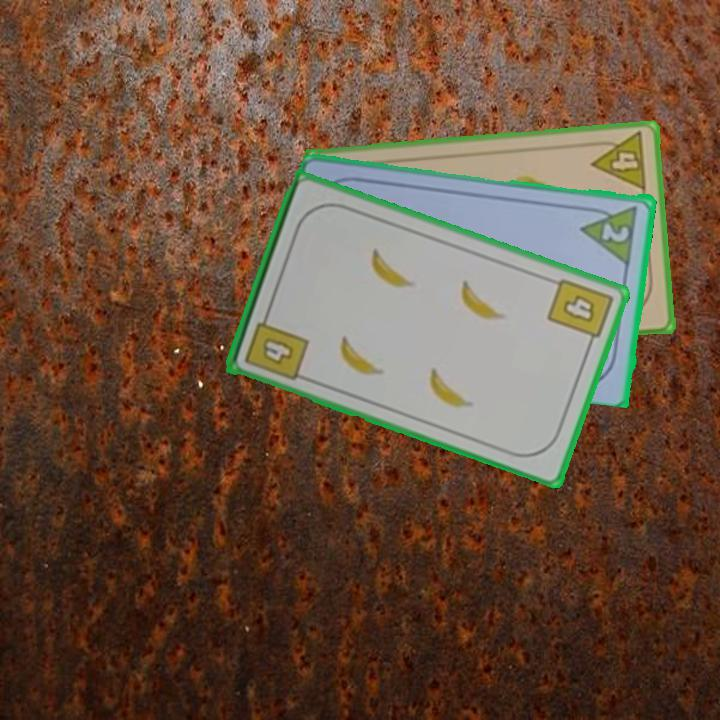2p: (578, 201, 641, 265)
4b: (543, 274, 616, 351), (241, 307, 312, 383)
4p: (587, 128, 650, 194)
